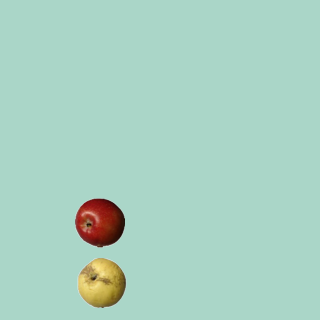Apple Braeburn: (74, 197, 124, 247)
Apple Golden 1: (76, 257, 126, 307)
